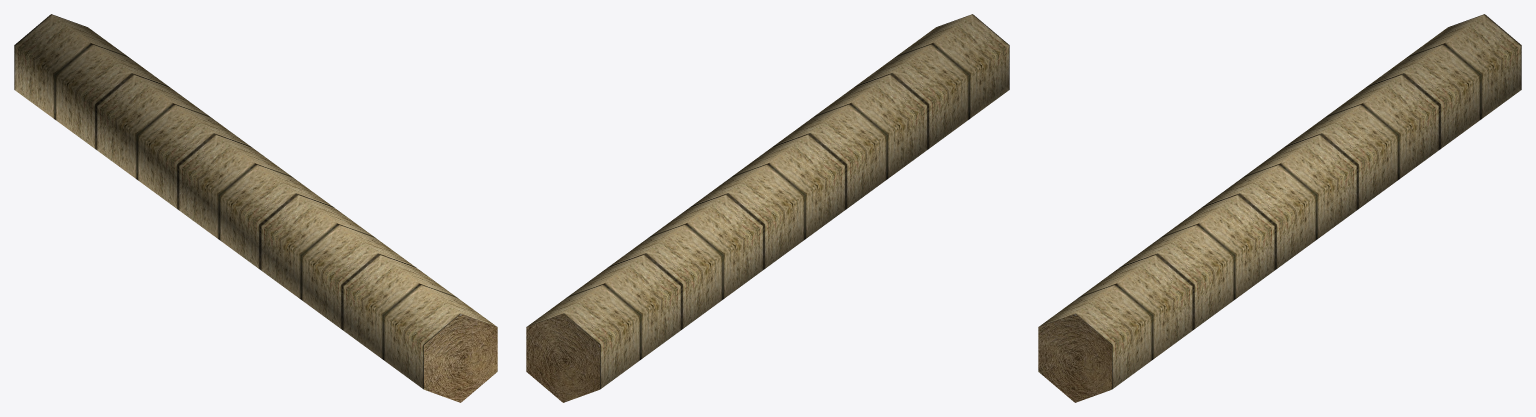
Rendered from hay-bale-straw-1x10-cbj_LOD02.gltf.
3 renders of one model, left to right at view 1: azimuth 30°, elevation 25°; view 2: azimuth 150°, elevation 25°; view 3: azimuth 330°, elevation 25°, orthographic.
Visible parts, largest first — view 1: Cube.002; view 2: Cube.002; view 3: Cube.002.
Part boxes in pixels (left/top/right/bottom): Cube.002: left=14, top=14, right=497, bottom=402; Cube.002: left=526, top=14, right=1009, bottom=402; Cube.002: left=1038, top=14, right=1521, bottom=402.
Size of what is drawn, in the model's own units: 1.56 by 1.8 by 15.
